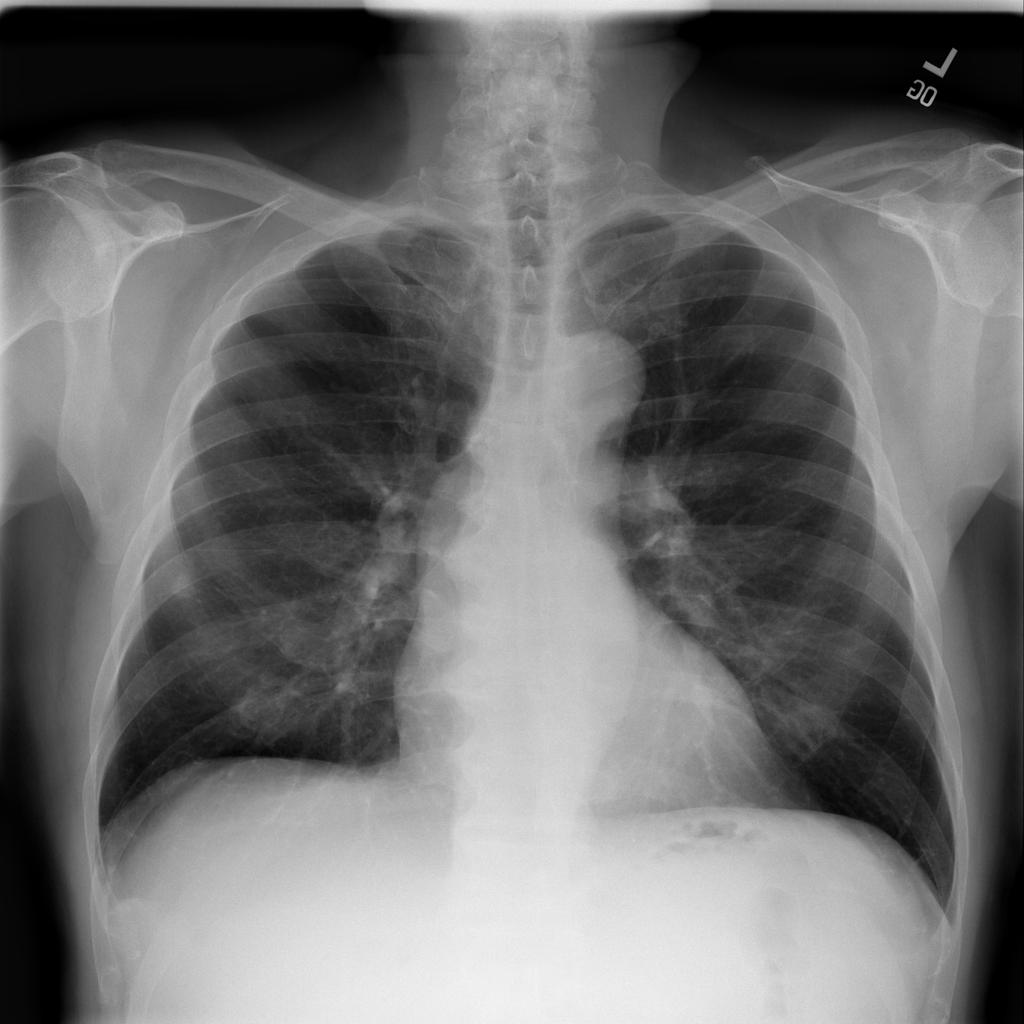nodule: (156, 558, 208, 607)
